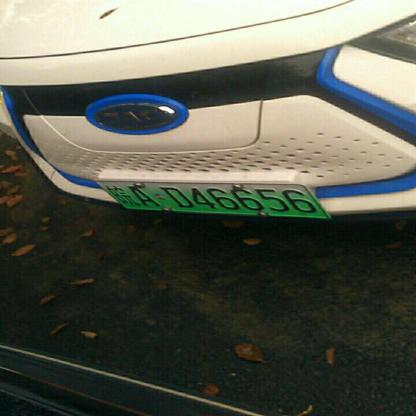lp: (93, 179, 331, 220)
